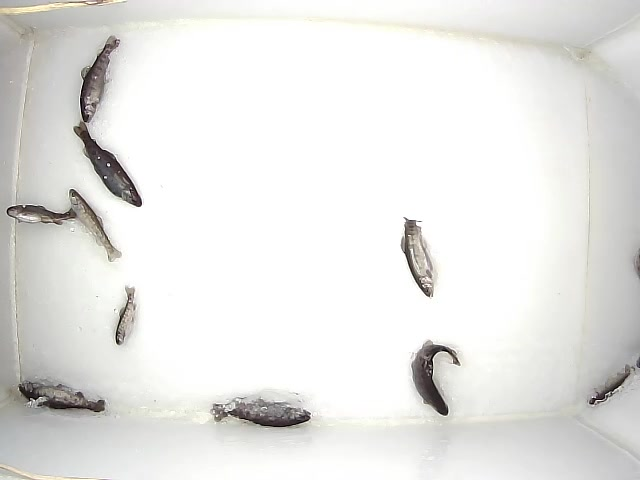fish: (73, 121, 142, 207), (69, 189, 122, 262), (411, 340, 461, 416), (80, 35, 120, 123), (210, 397, 311, 427), (18, 381, 106, 413), (400, 217, 434, 298), (587, 364, 635, 407), (11, 204, 80, 225), (115, 285, 137, 345)
